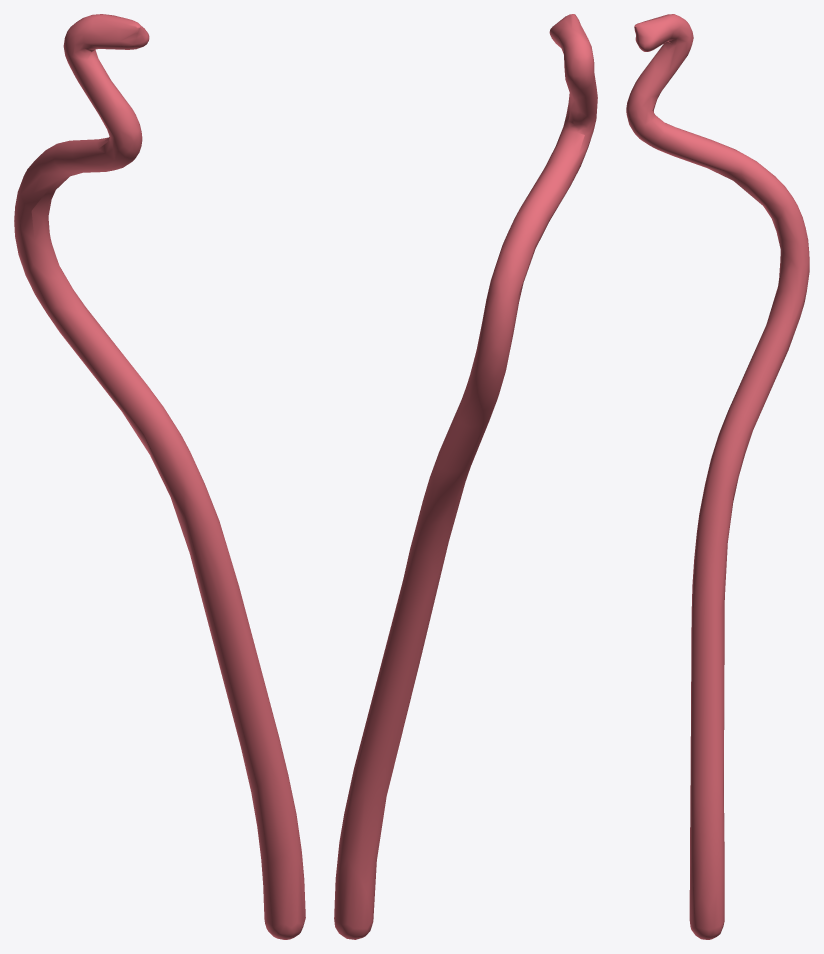
The model's file is fma69326_fj1682m.glb.
3 views of the same model, side by side, from view 1: azimuth 30°, elevation 25°; view 2: azimuth 150°, elevation 25°; view 3: azimuth 270°, elevation 25° (orthographic). The views are drawn at different scales.
Visible parts, largest first — view 1: FMA69326_FJ1682M; view 2: FMA69326_FJ1682M; view 3: FMA69326_FJ1682M.
Part boxes in pixels (box(x1,y1,x2,y2)): FMA69326_FJ1682M: box(14, 14, 305, 939); FMA69326_FJ1682M: box(334, 14, 597, 939); FMA69326_FJ1682M: box(626, 14, 809, 939).
Bounding box in the file's own units: 0.0276 × 0.1032 × 0.0205.
